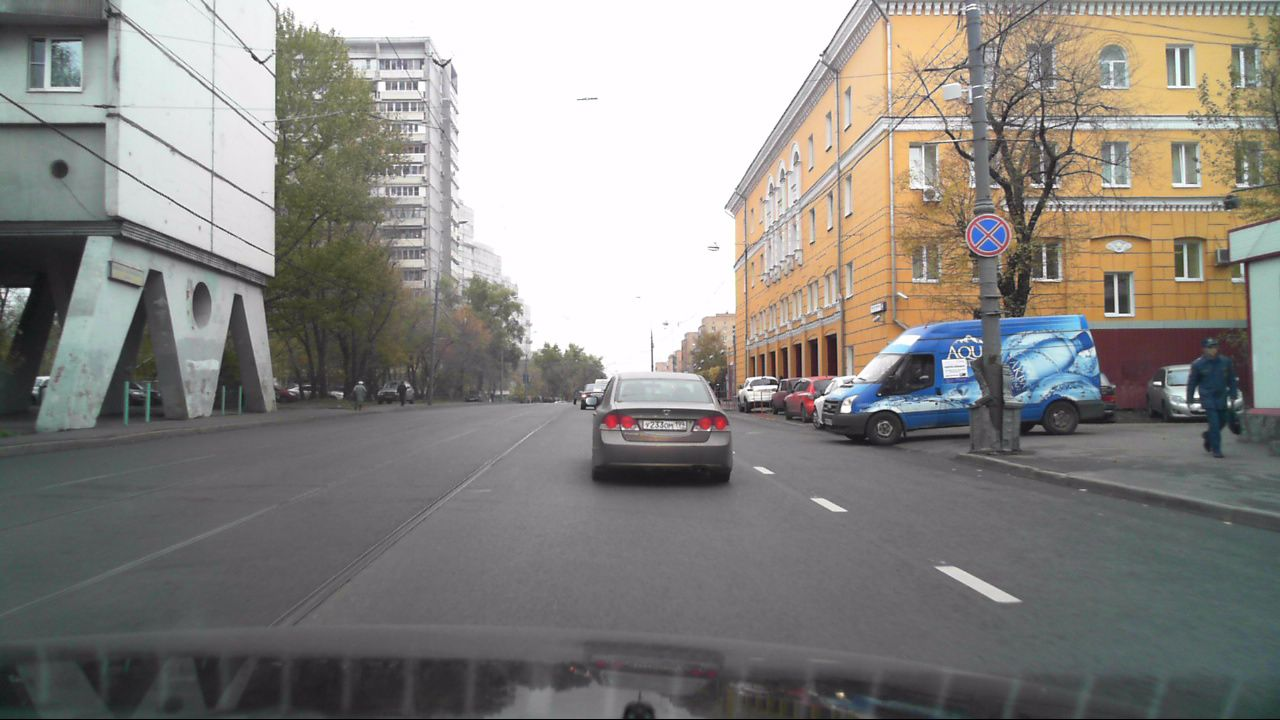No Parking: (966, 215, 1010, 257)
